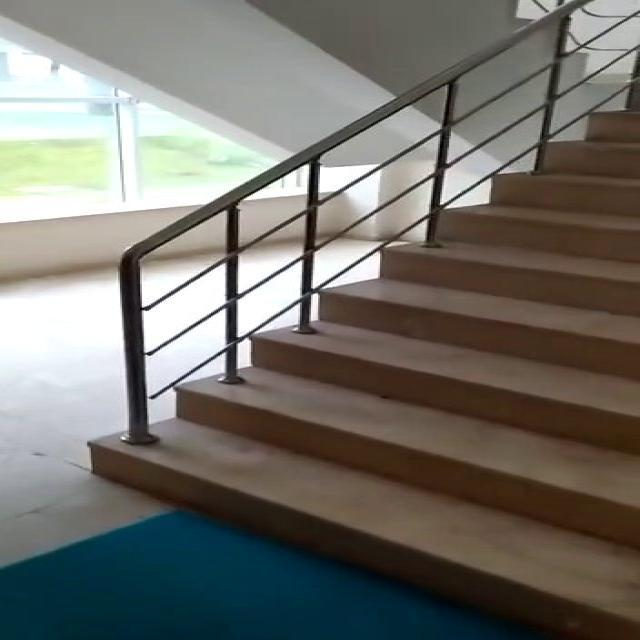stair: (30, 44, 640, 640)
